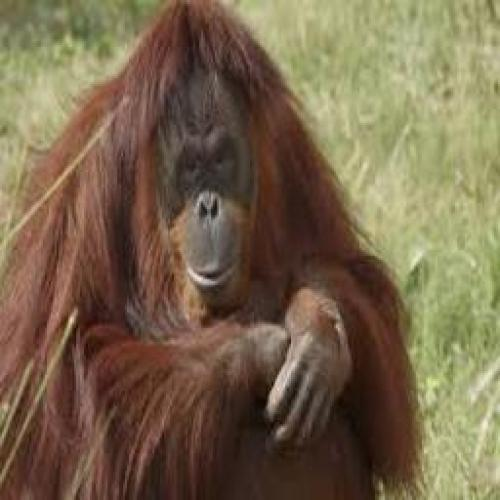orangutan-endangered: (0, 0, 431, 500)
